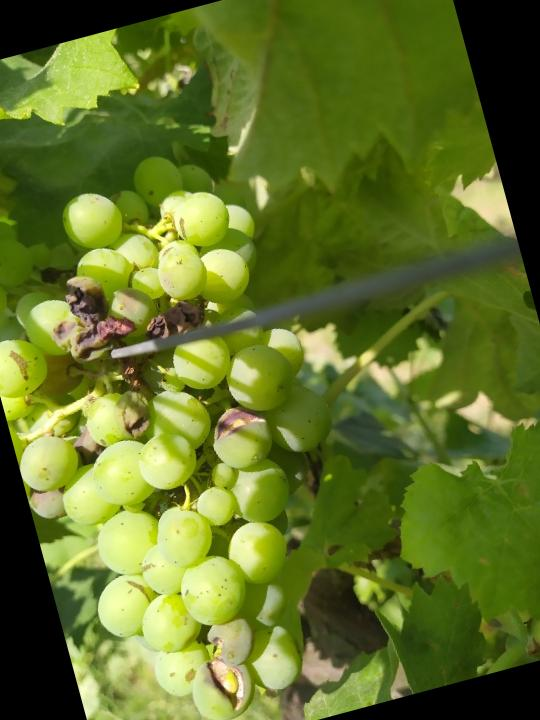grape: (0, 125, 406, 720)
